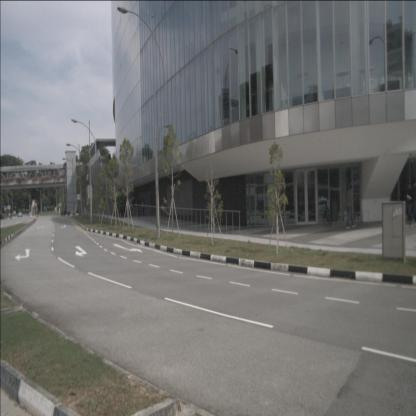human-pedestrian-adult: (346, 185, 356, 228), (406, 181, 415, 224), (409, 179, 415, 226)
vehicle-bicycle: (323, 200, 333, 228)
vehicle-car: (310, 198, 338, 216)
